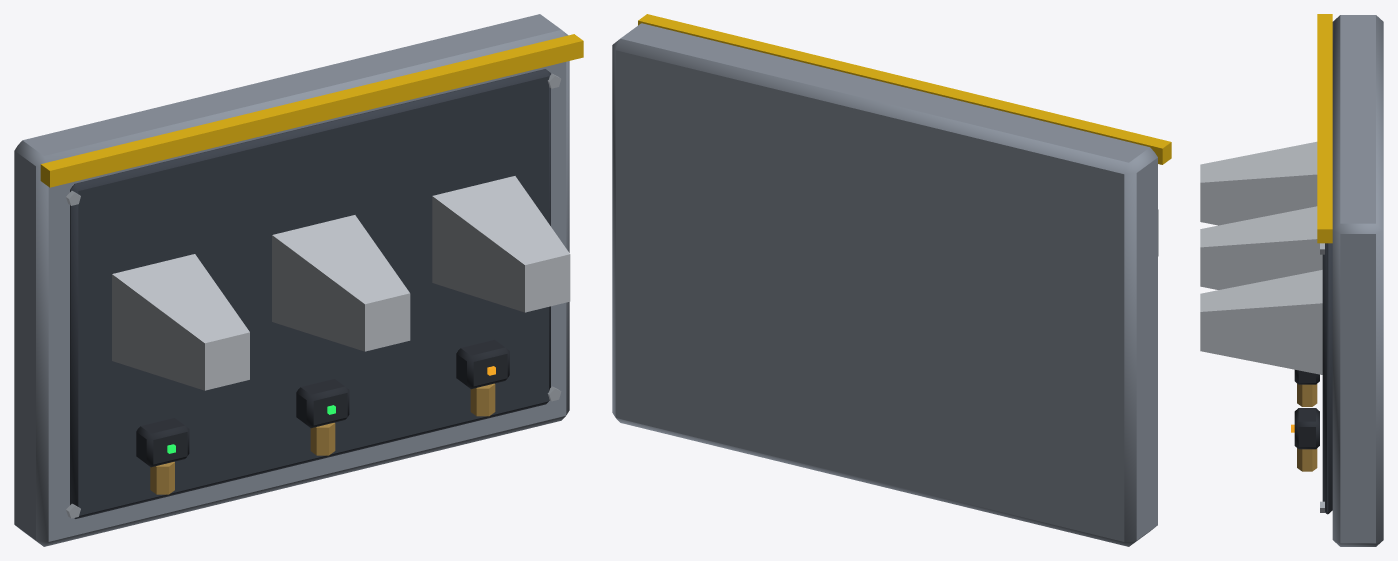
Rendered from antenna_feed_horn_panel.glb.
3 renders of one model, left to right at view 1: azimuth 30°, elevation 25°; view 2: azimuth 150°, elevation 25°; view 3: azimuth 270°, elevation 25°, orthographic. The views are drawn at different scales.
Parts seen in each view (by area): view 1: antenna_feed_horn_panel; view 2: antenna_feed_horn_panel; view 3: antenna_feed_horn_panel.
Part boxes in pixels (box(x1,y1,x2,y2)): antenna_feed_horn_panel: box(14, 14, 583, 546); antenna_feed_horn_panel: box(612, 14, 1171, 546); antenna_feed_horn_panel: box(1200, 14, 1383, 546).
Size of the model in its own units: 1 by 0.7 by 0.36.
